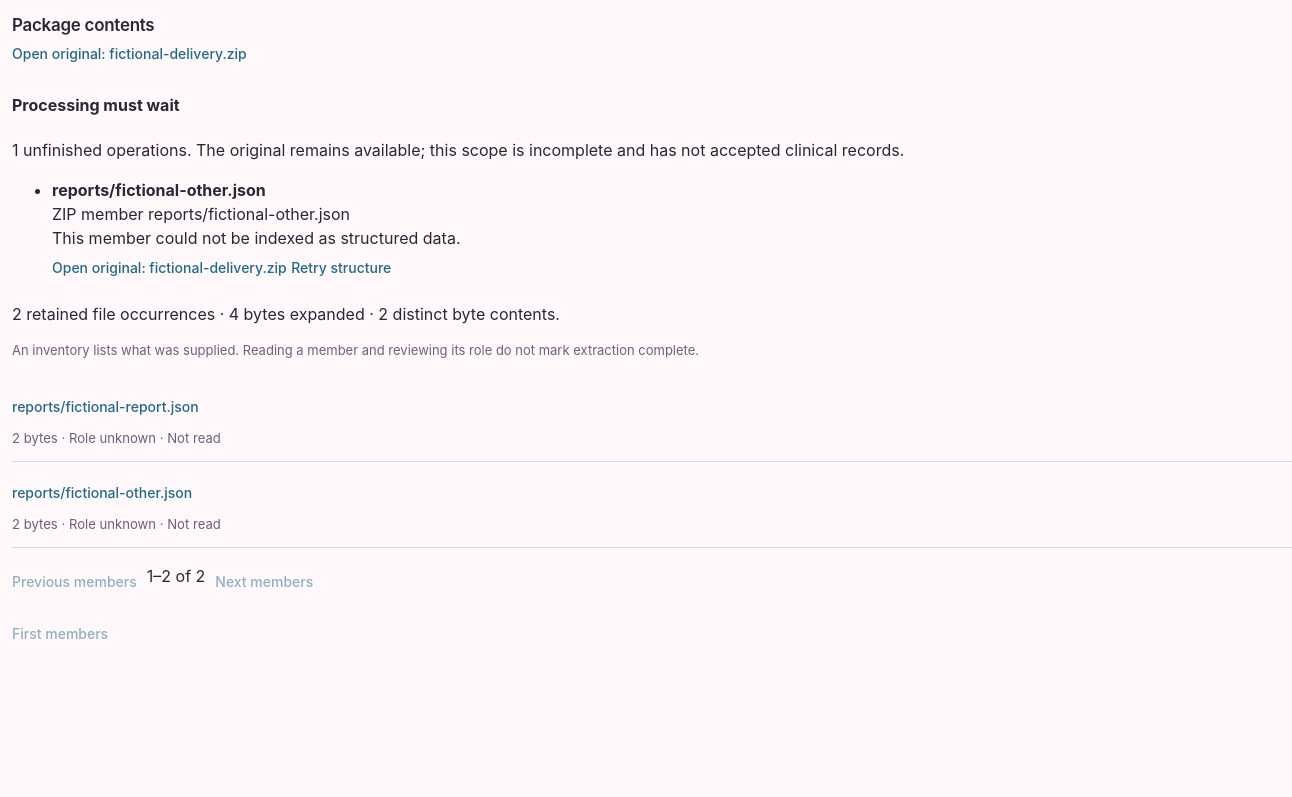
Test: clears a prior selected member and navigation when a different read_structure retry fails
Click the button "reports/fictional-report.json" at (105, 406), box [12, 388, 199, 424]
(page scrolled)
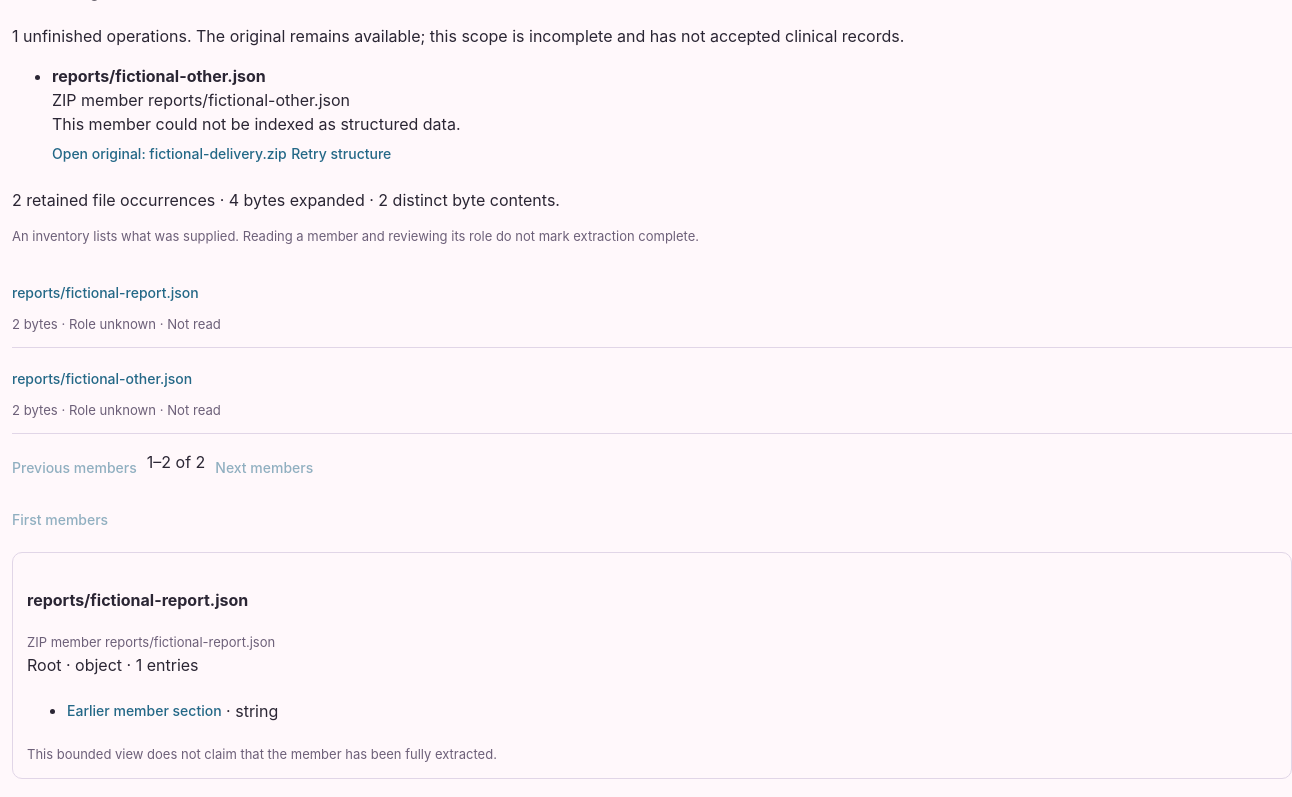
Click the button "Earlier member section" at (144, 711), box [67, 693, 222, 729]
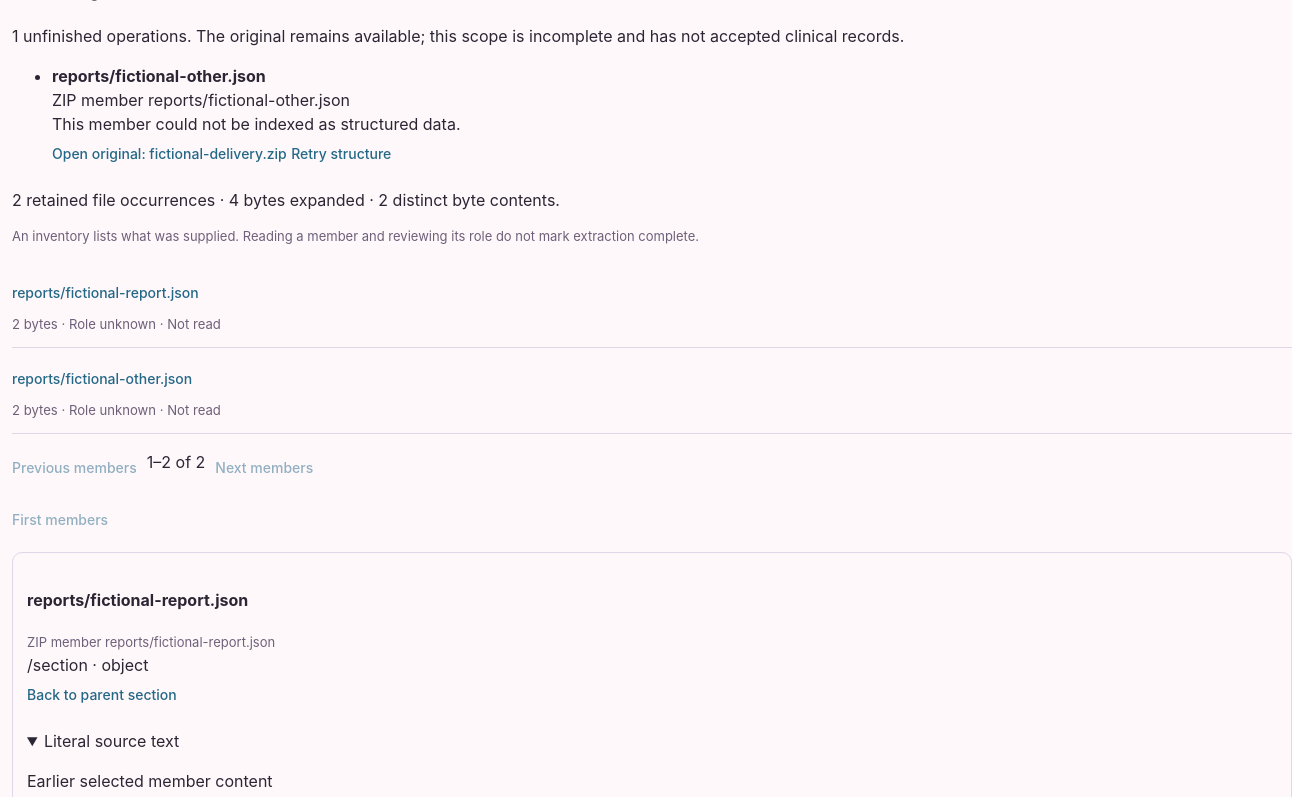
Now the text "Earlier selected member content" is shown, box [27, 771, 273, 791]
Now the button "Back to parent section" is shown, box [27, 677, 177, 713]
Click the button "Retry structure" at (341, 154), box [291, 136, 391, 172]
(page scrolled)
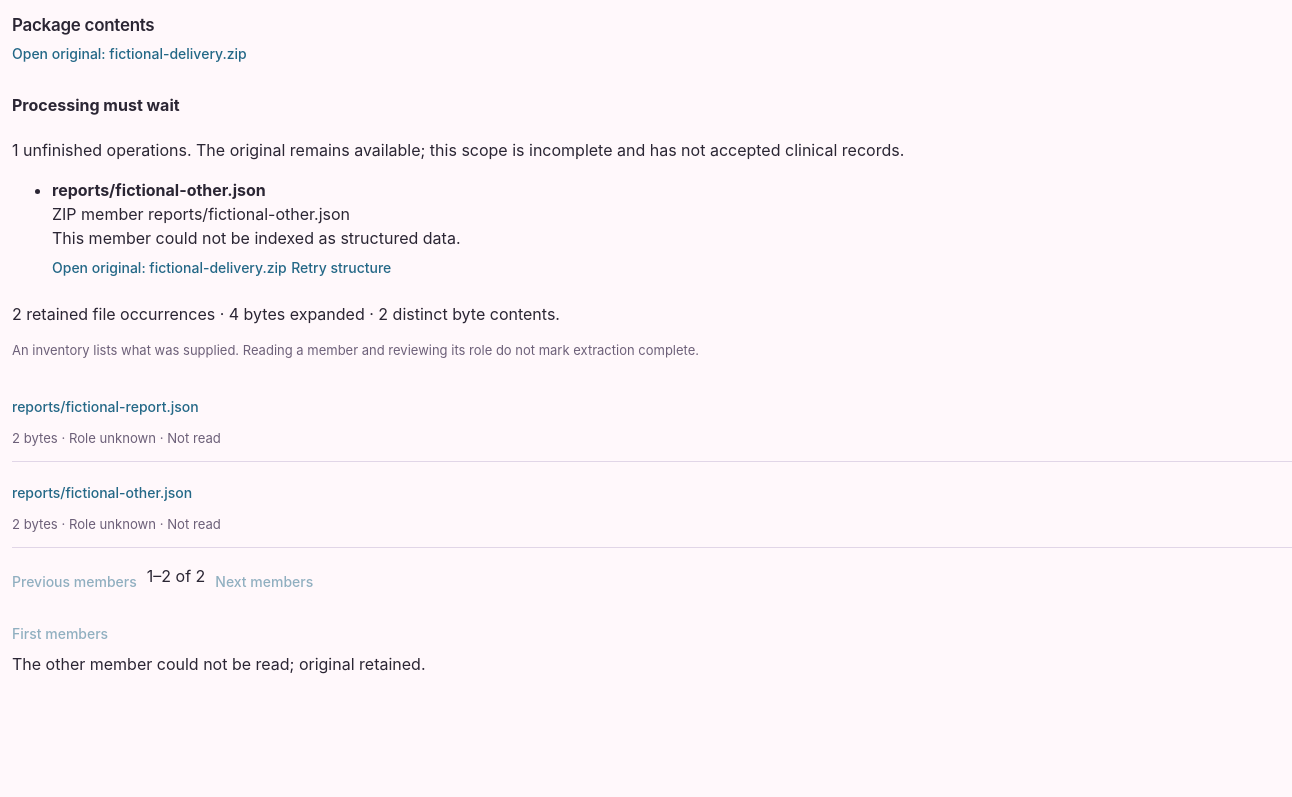
Now the text "The other member could not be read; original retained." is shown, box [12, 654, 426, 674]
Now the text "Earlier selected member content" is gone
Now the button "Back to parent section" is gone
Click the button "Retry structure" at (341, 268), box [291, 250, 391, 286]
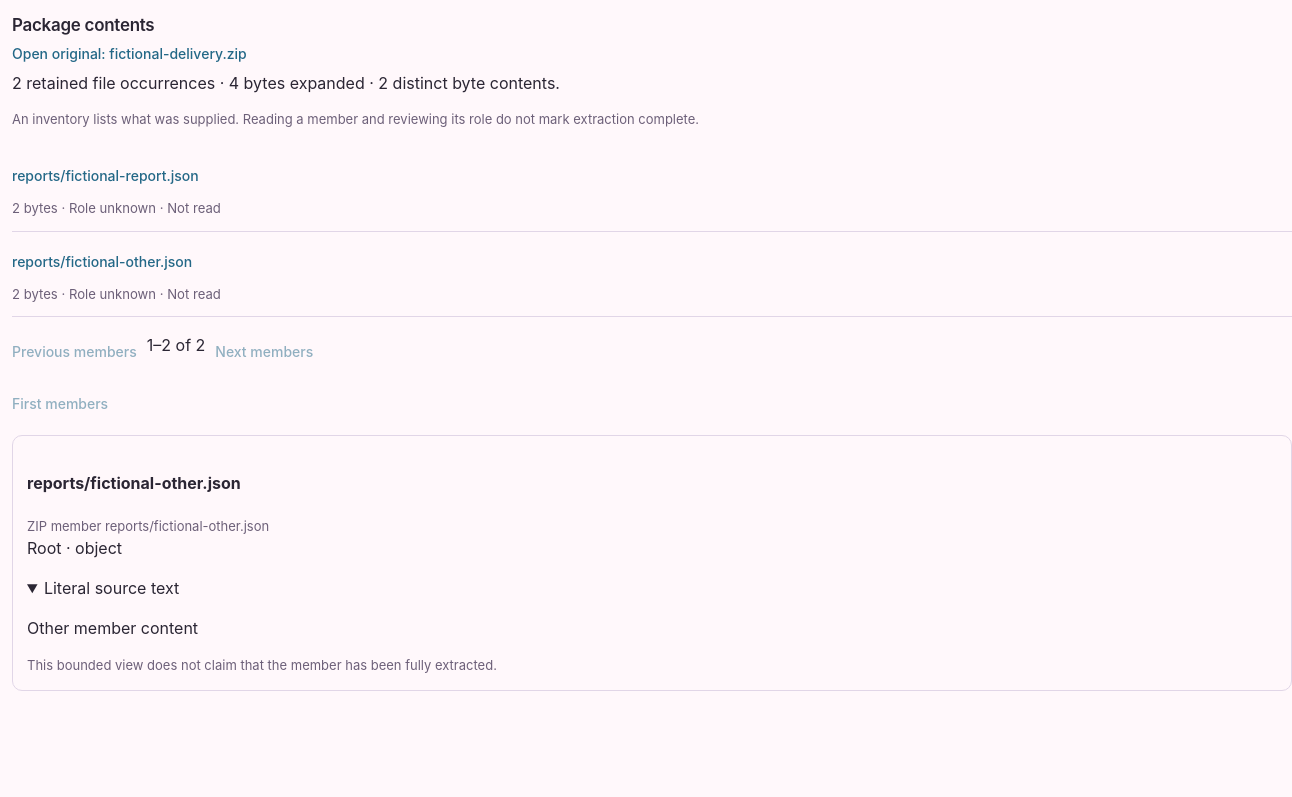
Expected: the button "Back to parent section" is not shown
Now the text "Other member content" is shown, box [27, 618, 198, 638]
